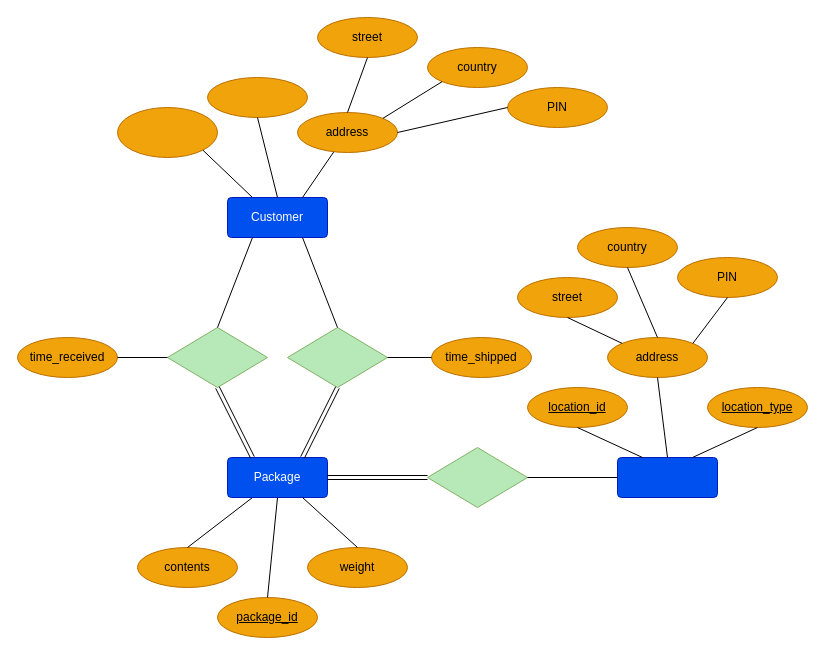
This 825x655 diagram has some shape labels left out. The box of each missing label's shape, as (x1, y1, x2, y2) in pixels:
customer_id: (116, 106, 218, 158)
location: (616, 456, 718, 498)
name: (206, 76, 308, 118)
receives: (166, 326, 268, 388)
ships: (286, 326, 388, 388)
stores: (426, 446, 528, 508)
